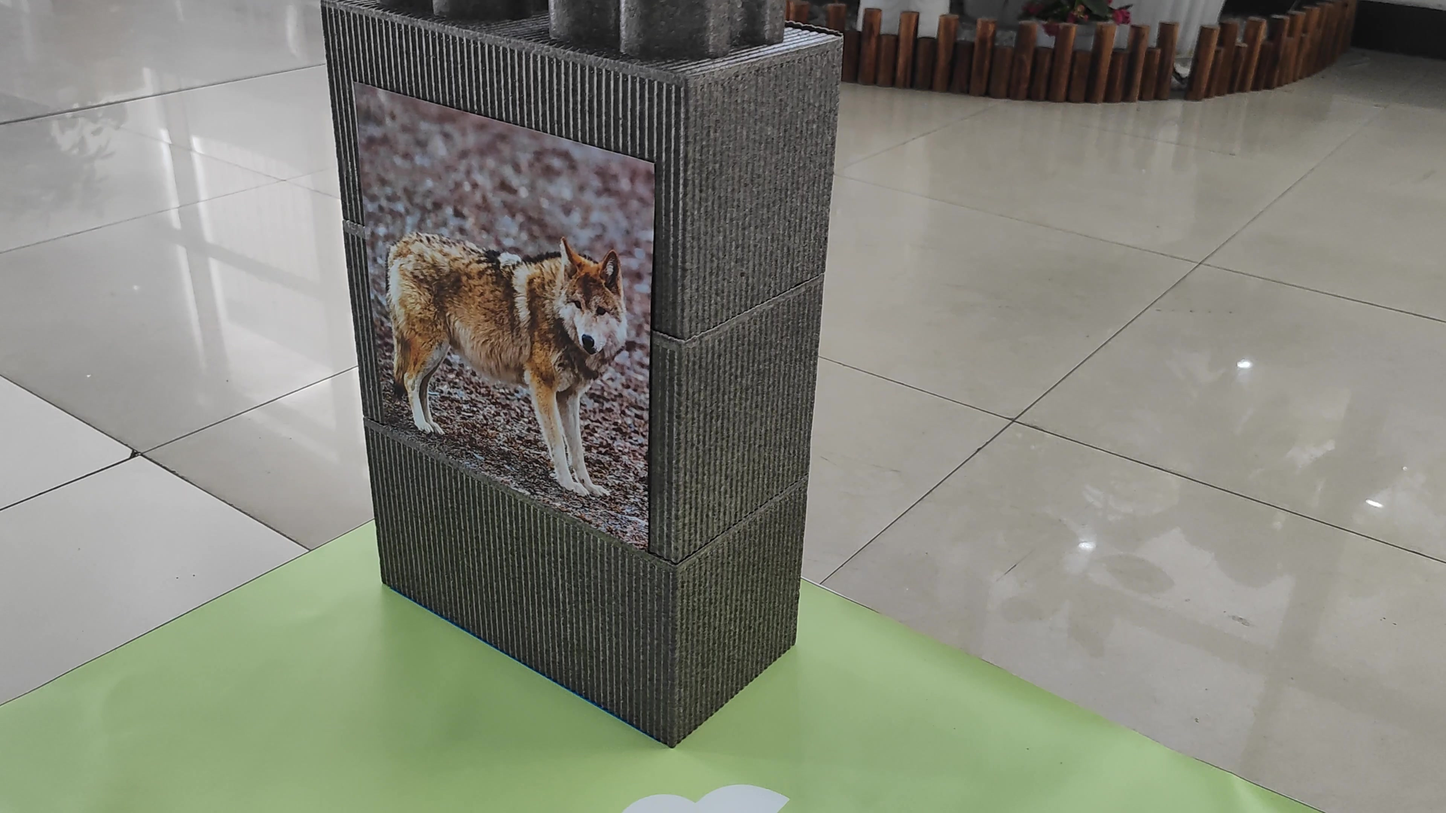wolf: (357, 158, 636, 498)
